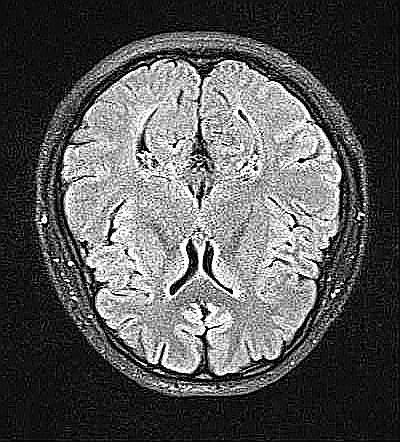Normal_Brain: (1, 4, 400, 442)
